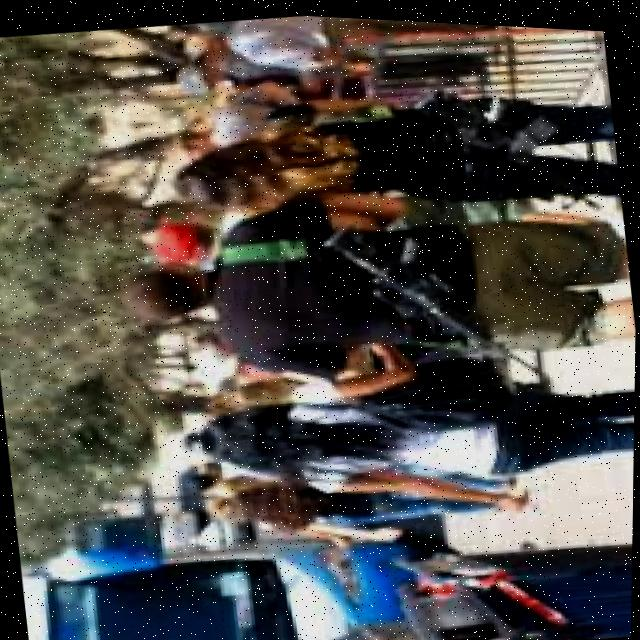firearm: (317, 195, 553, 401), (407, 63, 604, 226)
